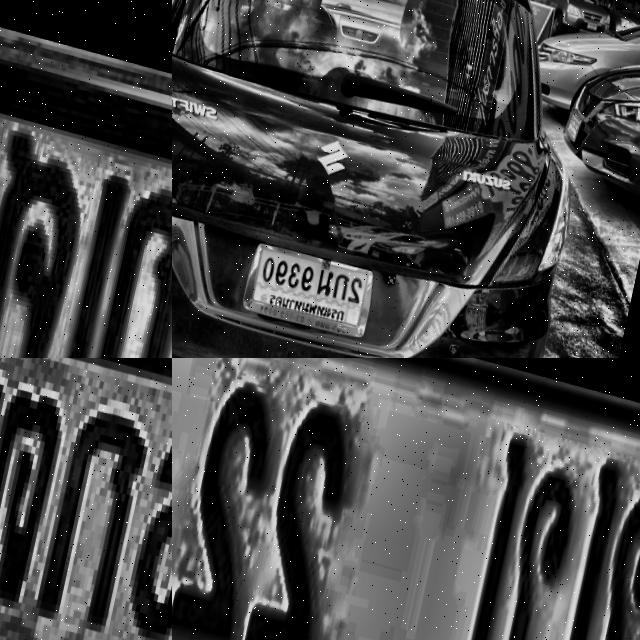license-plate: (172, 358, 640, 640), (0, 0, 172, 358), (0, 358, 172, 640), (236, 227, 377, 340)
